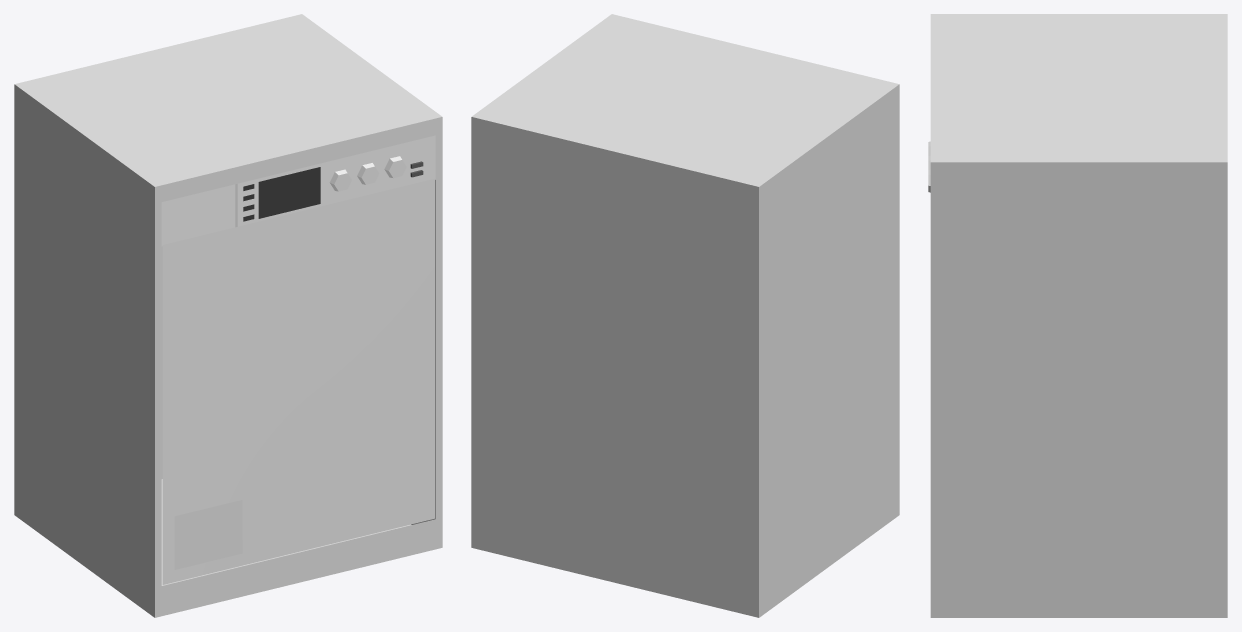
The model's file is LAVADORA.obj.
The picture shows the model from 3 angles, left to right: view 1: azimuth 30°, elevation 25°; view 2: azimuth 150°, elevation 25°; view 3: azimuth 270°, elevation 25°; orthographic projection. The views are drawn at different scales.
Visible parts, largest first — view 1: washing_machine_001; view 2: washing_machine_001; view 3: washing_machine_001.
Part boxes in pixels (x1=…): washing_machine_001: x1=14, y1=14, x2=442, y2=617; washing_machine_001: x1=471, y1=14, x2=899, y2=617; washing_machine_001: x1=928, y1=14, x2=1227, y2=617.
Size of the model in its own units: 0.8651 by 1.24 by 0.7378.
Materials: 1 (1 with a texture image).
